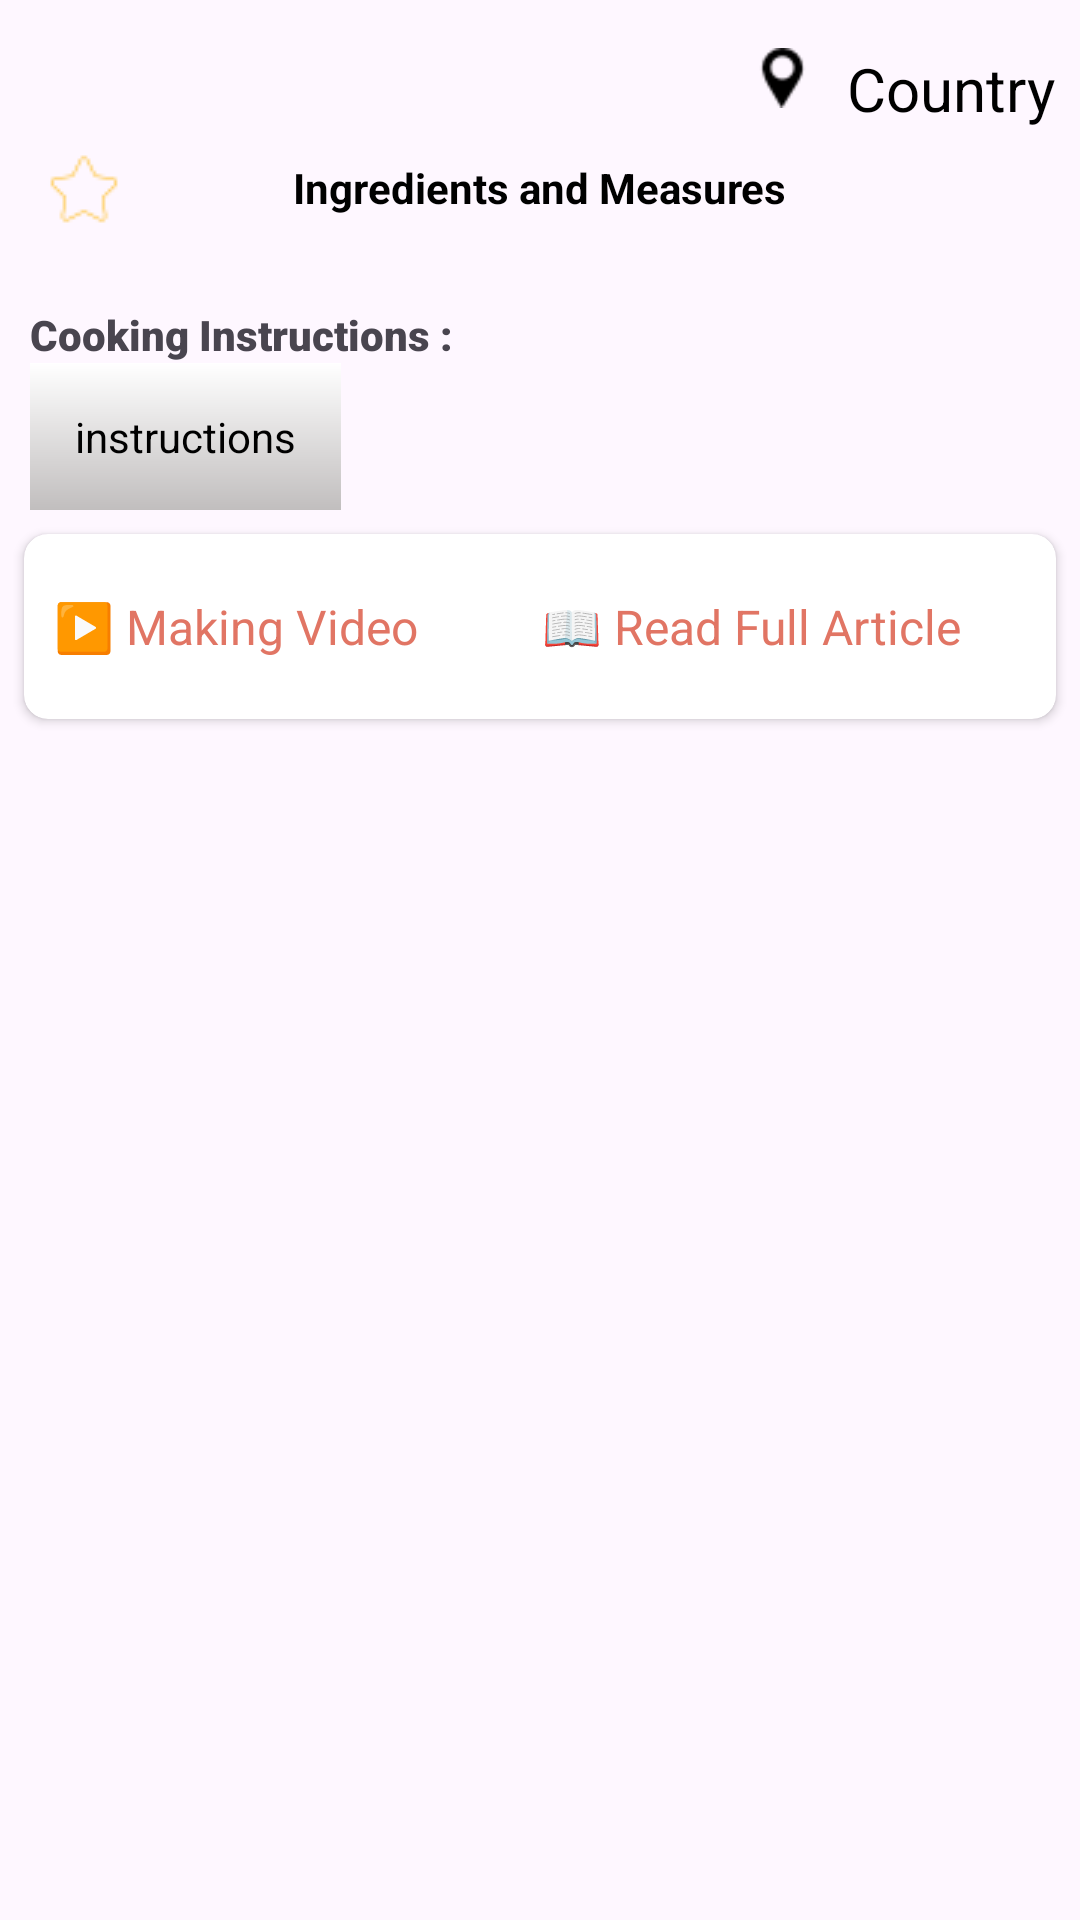

Icons on this 1080*1920 Android screen, each with its box as detection(x1, y1, x2, y2):
location pointer: detection(761, 48, 804, 108)
star: detection(50, 155, 118, 223)
